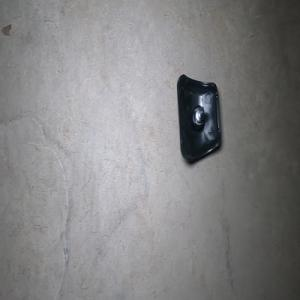LuggagePart: (176, 73, 222, 164)
